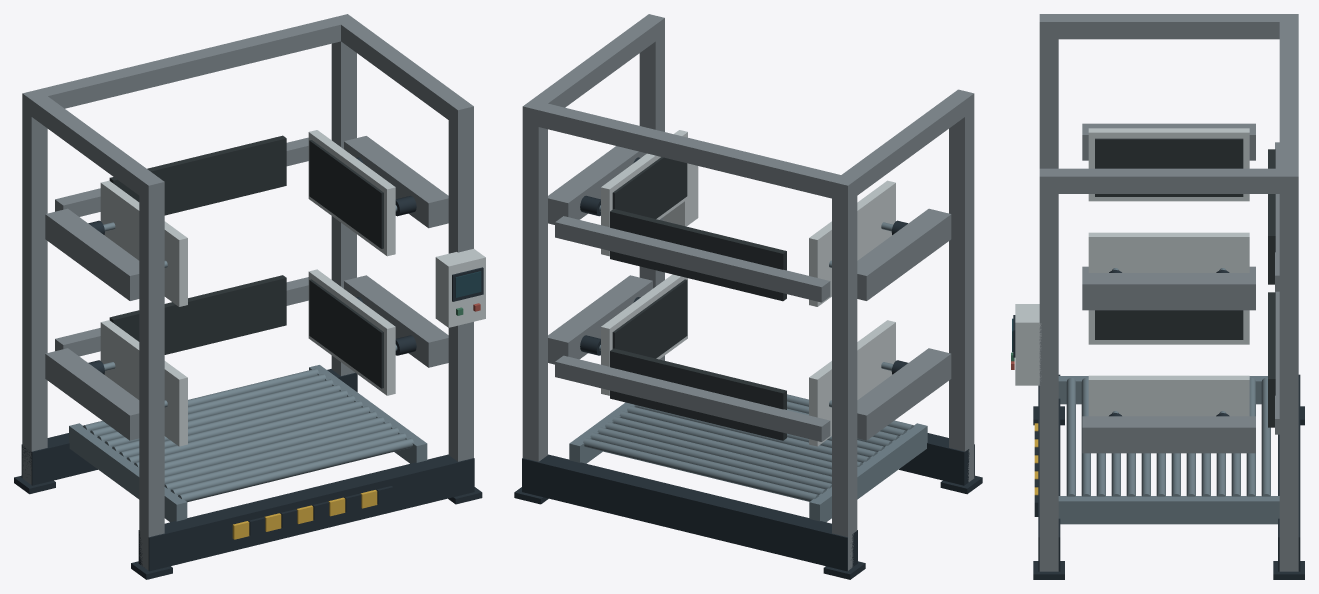
The model's file is centering-station.glb.
The picture shows the model from 3 angles, left to right: view 1: azimuth 30°, elevation 25°; view 2: azimuth 150°, elevation 25°; view 3: azimuth 270°, elevation 25°; orthographic projection. The views are drawn at different scales.
Parts seen in each view (by area): view 1: centering-frame-machineGray, centering-entry-bed-surface, centering-frame-surface, centering-rear-stop-1-rubber, centering-rear-stop-2-rubber, centering-operator-panel-surface (×2), centering-jaw-1-right-rubber, centering-jaw-2-right-rubber, centering-jaw-2-left-machineGray, centering-jaw-1-left-machineGray, centering-jaw-2-left-surface, centering-jaw-1-left-surface (+7 smaller); view 2: centering-frame-machineGray, centering-entry-bed-surface, centering-frame-surface, centering-rear-stop-1-machineGray, centering-rear-stop-2-machineGray, centering-rear-stop-2-rubber, centering-rear-stop-1-rubber, centering-jaw-1-left-machineGray, centering-jaw-2-left-machineGray, centering-jaw-1-right-rubber, centering-jaw-1-left-surface, centering-jaw-2-left-surface (+6 smaller); view 3: centering-frame-machineGray, centering-entry-bed-surface, centering-jaw-1-right-surface, centering-jaw-1-right-machineGray, centering-jaw-2-right-machineGray, centering-jaw-2-right-surface, centering-jaw-2-left-rubber, centering-jaw-1-left-rubber, centering-jaw-2-left-surface, centering-frame-surface, centering-operator-panel-surface (×2), centering-jaw-2-left-machineGray (+5 smaller).
Boxes of the visible parts, x1,y1,x2,y2 form: centering-frame-machineGray: [22, 14, 473, 570]; centering-entry-bed-surface: [69, 365, 427, 522]; centering-frame-surface: [14, 369, 482, 579]; centering-rear-stop-1-rubber: [109, 275, 286, 354]; centering-rear-stop-2-rubber: [109, 135, 286, 215]; centering-operator-panel-surface (×2): [248, 249, 485, 535]; centering-jaw-1-right-rubber: [309, 279, 383, 388]; centering-jaw-2-right-rubber: [309, 140, 383, 248]; centering-jaw-2-left-machineGray: [45, 208, 139, 300]; centering-jaw-1-left-machineGray: [45, 348, 139, 440]; centering-jaw-2-left-surface: [100, 180, 187, 306]; centering-jaw-1-left-surface: [100, 320, 187, 446]; centering-frame-machineGray: [522, 14, 974, 570]; centering-entry-bed-surface: [569, 394, 927, 522]; centering-frame-surface: [514, 433, 982, 579]; centering-rear-stop-1-machineGray: [555, 355, 830, 441]; centering-rear-stop-2-machineGray: [555, 216, 830, 302]; centering-rear-stop-2-rubber: [610, 209, 786, 301]; centering-rear-stop-1-rubber: [610, 348, 786, 440]; centering-jaw-1-left-machineGray: [857, 348, 951, 440]; centering-jaw-2-left-machineGray: [857, 208, 951, 300]; centering-jaw-1-right-rubber: [612, 279, 687, 358]; centering-jaw-1-left-surface: [809, 320, 895, 446]; centering-jaw-2-left-surface: [809, 180, 895, 306]; centering-frame-machineGray: [1039, 14, 1298, 571]; centering-entry-bed-surface: [1058, 376, 1279, 524]; centering-jaw-1-right-surface: [1088, 375, 1249, 416]; centering-jaw-1-right-machineGray: [1082, 416, 1255, 453]; centering-jaw-2-right-machineGray: [1082, 273, 1255, 310]; centering-jaw-2-right-surface: [1088, 232, 1249, 272]; centering-jaw-2-left-rubber: [1095, 138, 1243, 196]; centering-jaw-1-left-rubber: [1095, 310, 1243, 339]; centering-jaw-2-left-surface: [1088, 128, 1249, 201]; centering-frame-surface: [1033, 374, 1304, 579]; centering-operator-panel-surface (×2): [1013, 304, 1041, 516]; centering-jaw-2-left-machineGray: [1082, 123, 1255, 160].
Bounding box in the file's own units: 2.52 × 2.8 × 1.86.
